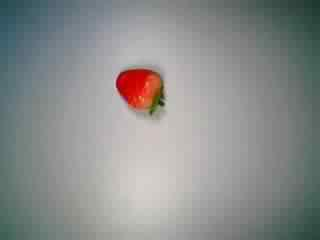strawberry: (103, 58, 176, 125)
